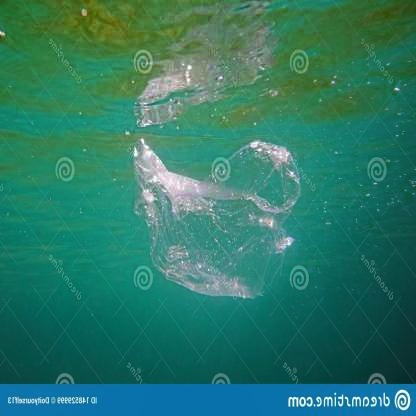pbag: (130, 132, 296, 299)
